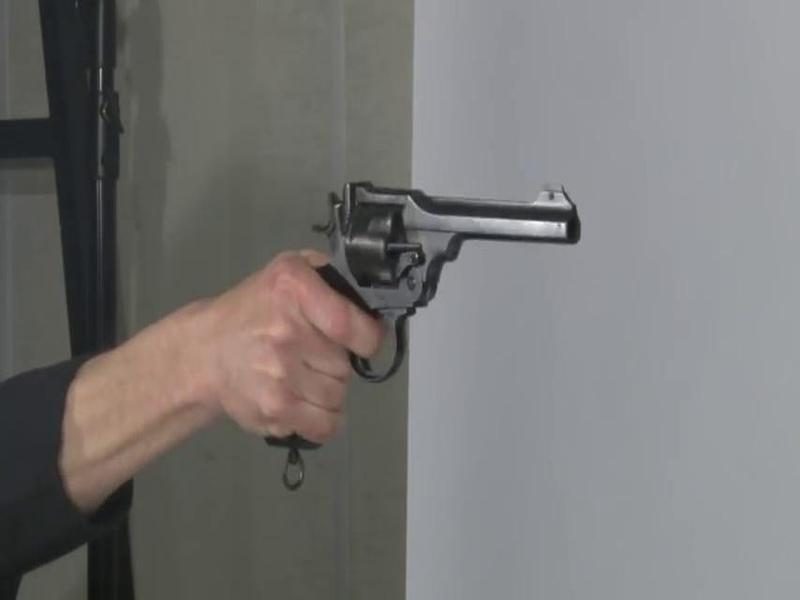Revolver: (302, 144, 652, 390)
